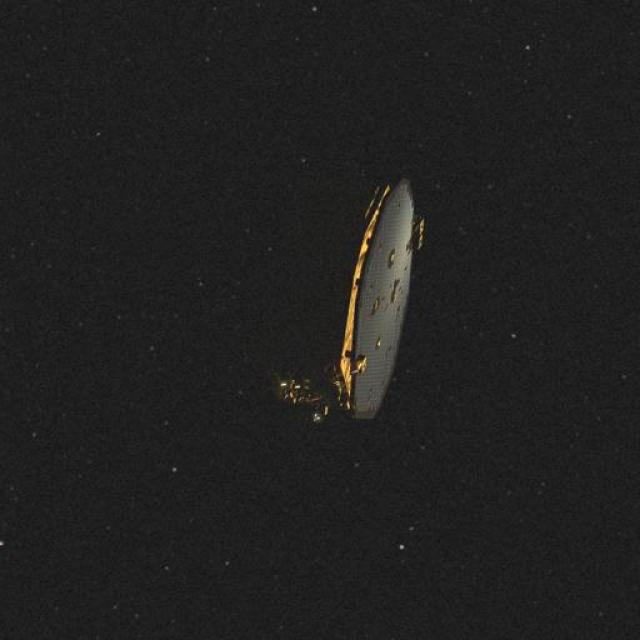lisa_pathfinder: (232, 172, 451, 447)
